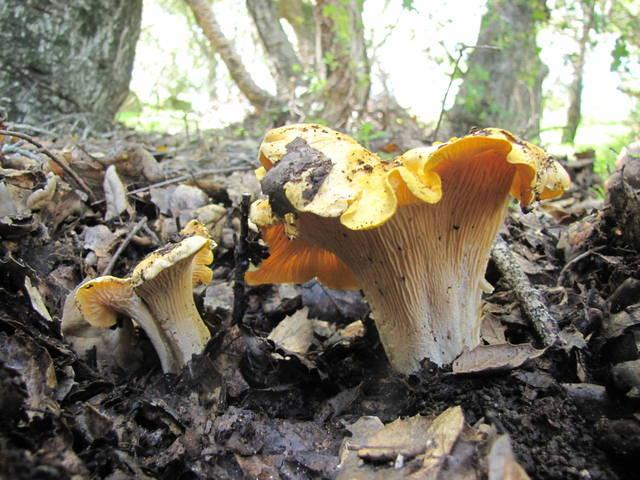Edible Mushroom: (243, 121, 570, 377), (72, 233, 214, 377)
